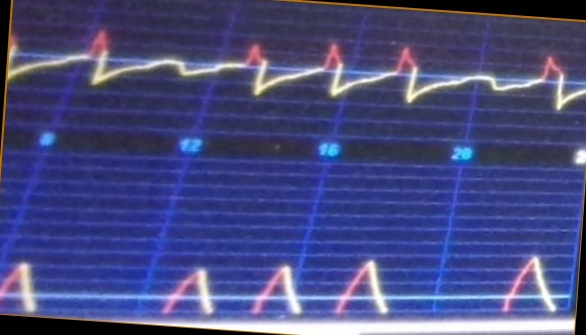Ineffective_effort Flow: (10, 23, 586, 120)
Ineffective_effort Volume: (1, 227, 558, 315)
